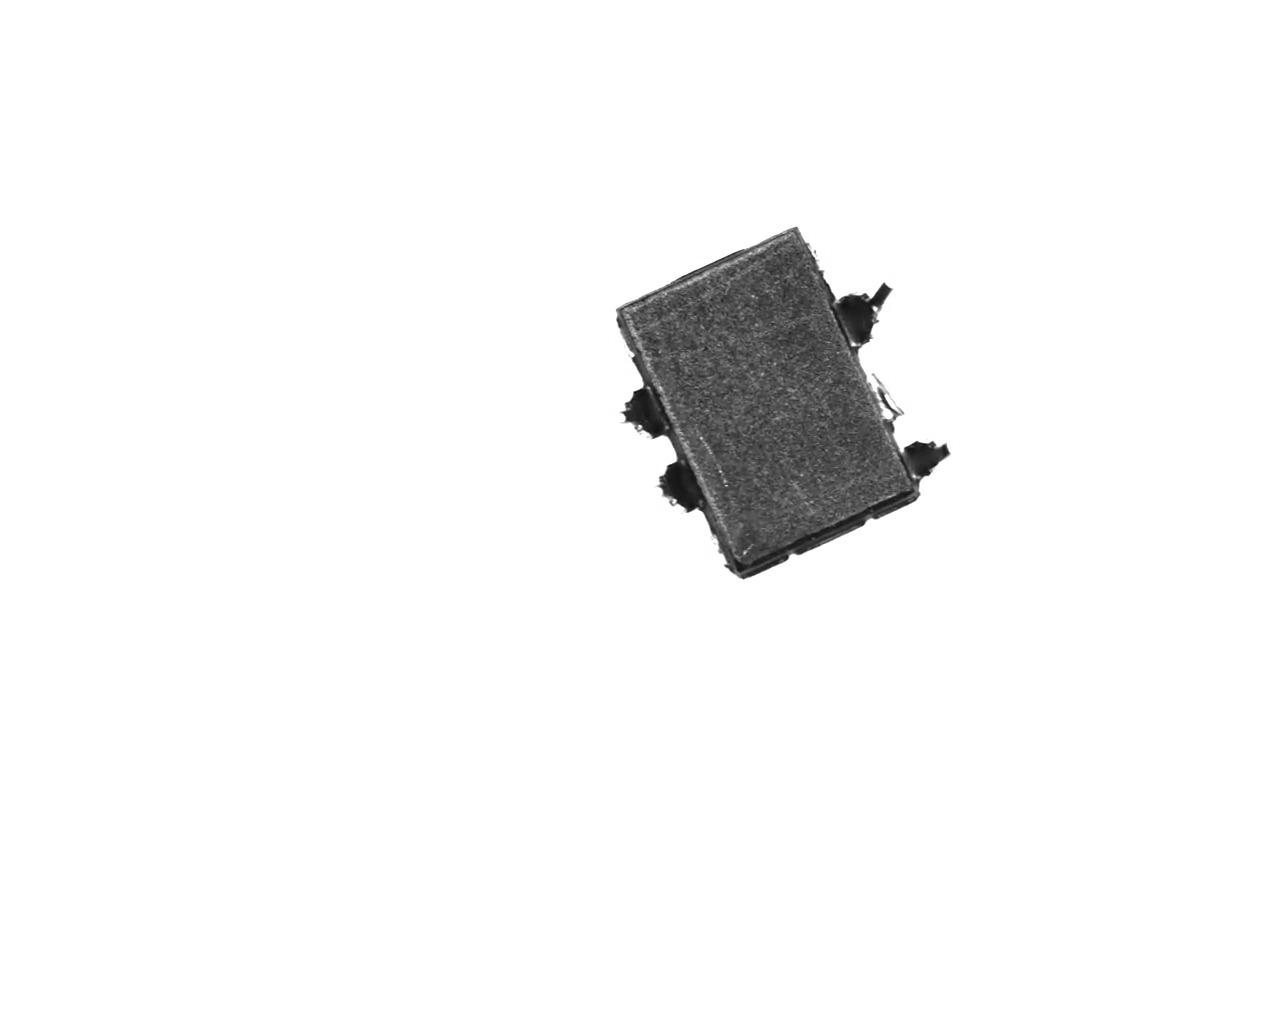brokenLeg: (829, 279, 894, 351), (642, 455, 707, 516), (616, 382, 673, 444), (899, 432, 952, 480)
missingLeg: (862, 363, 903, 430), (602, 312, 645, 369), (695, 518, 735, 573), (796, 230, 836, 284)
